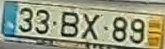3: (34, 8, 51, 35), (17, 6, 33, 33)
8: (111, 15, 128, 43)
9: (128, 17, 145, 45)
B: (59, 11, 79, 38)
X: (80, 12, 100, 41)
